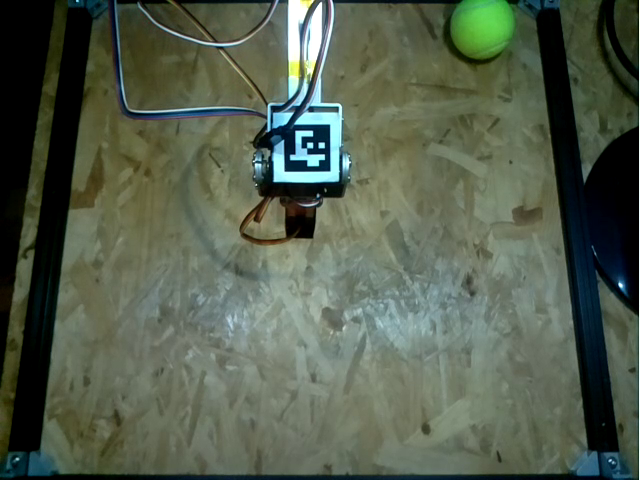tennis_ball: (451, 1, 514, 59)
